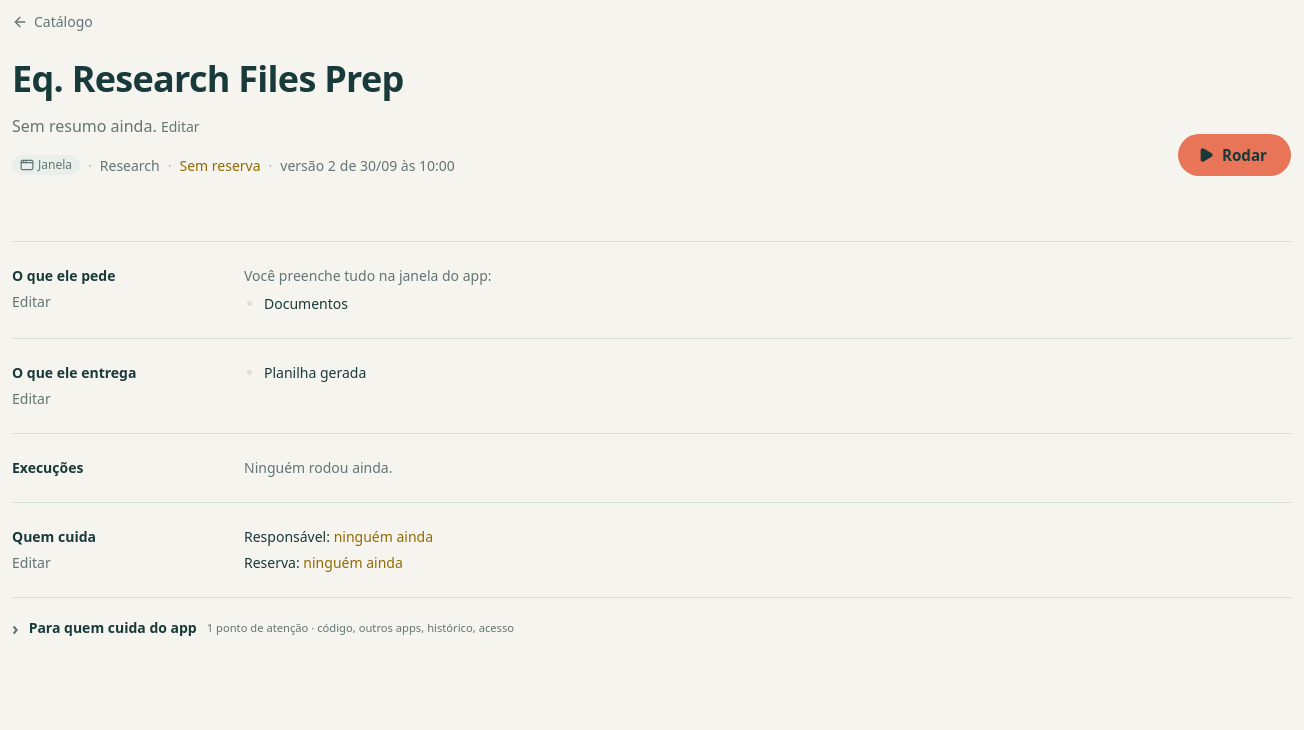
Test: shows Recarregar only for a conflict or a lost app, not for something missing
Click the button with aria-label "Editar O que ele pede": (31, 302) [12,292,51,312]
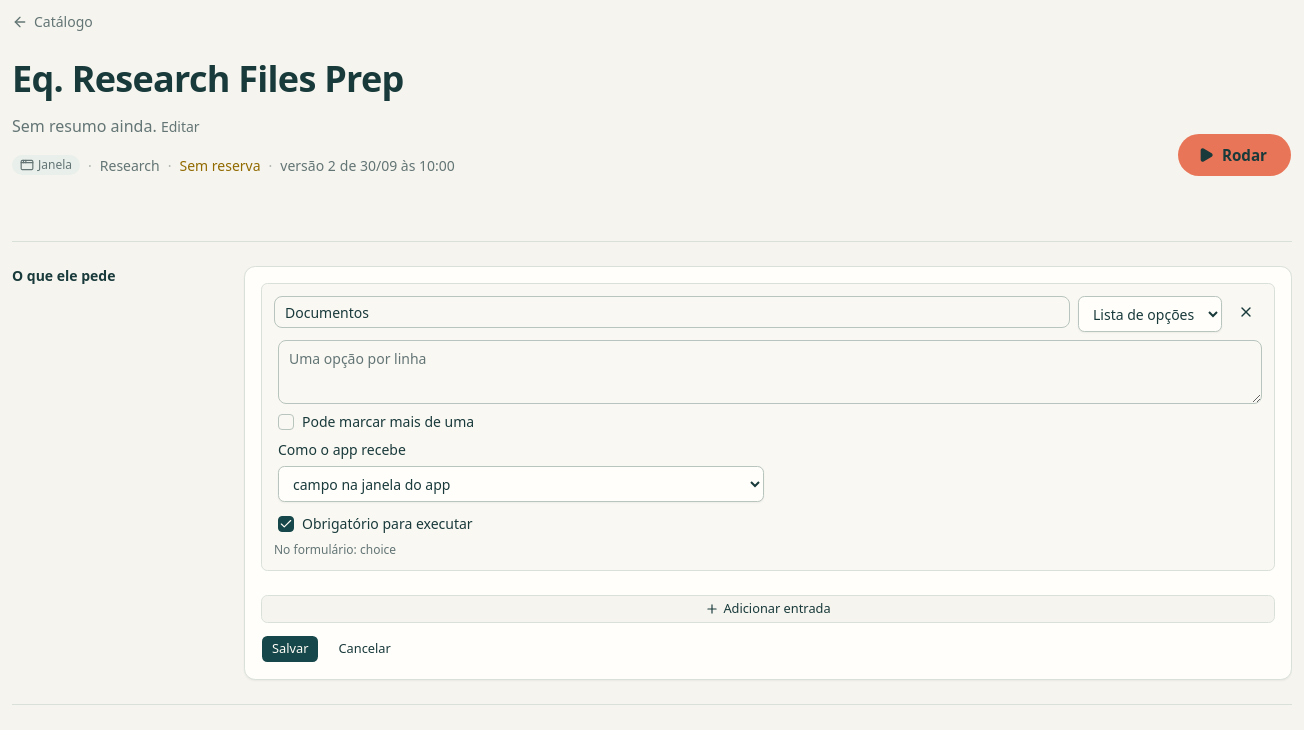
Click the button "Salvar": (290, 649) [261,635,320,663]
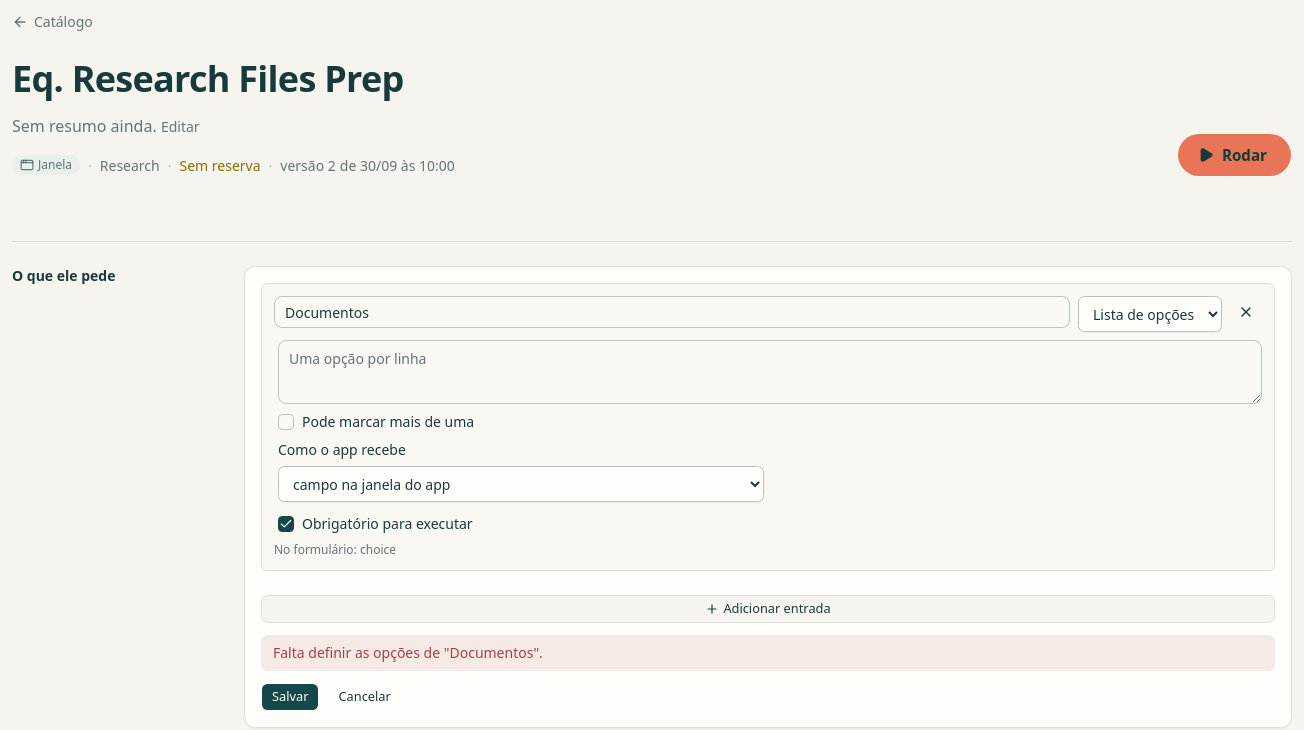
Result: the message reads "Falta definir as opções de \"Documentos\"." at [273,643,543,662]
